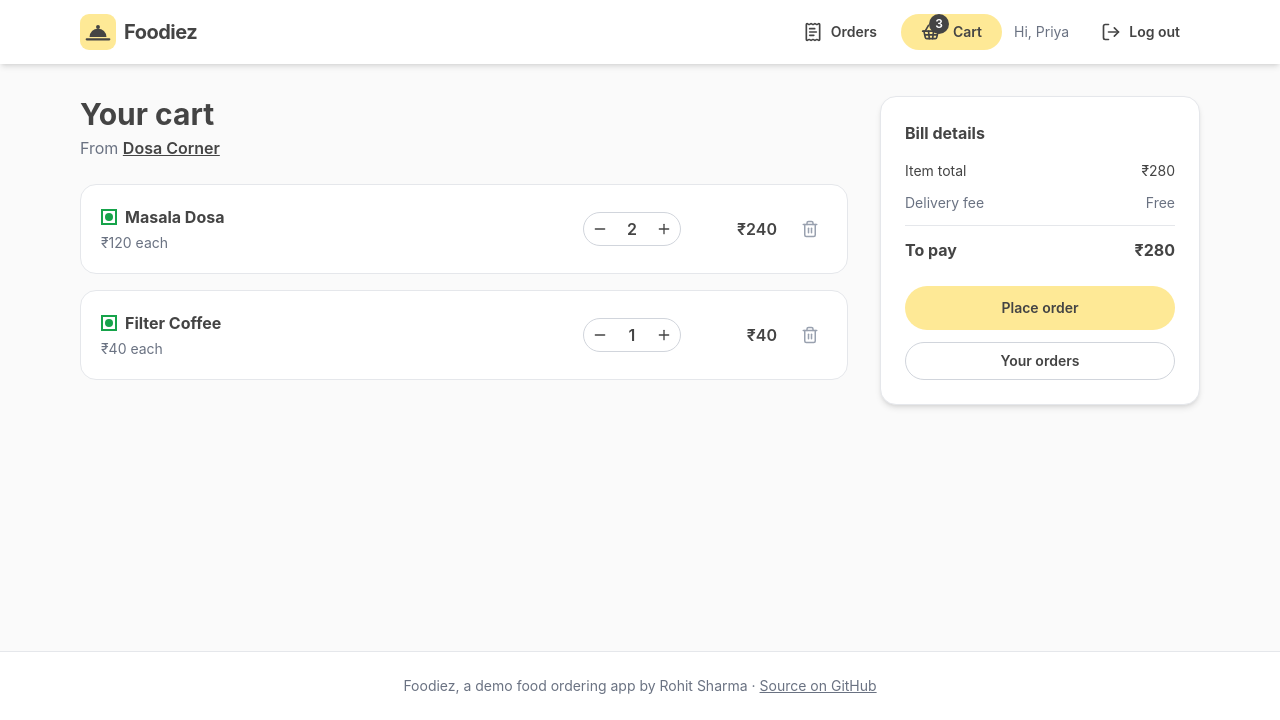
cart page › shows the bill and places the order
The width and height of the screenshot is (1280, 720).
expect the heading "Masala Dosa" is shown: met, box [125,205,224,229]
expect the text "₹280" in the row of "To pay" is shown: met, box [1135,240,1175,260]
Step 1. Click the button "Place order" → point(1040, 308), box [905,286,1175,330]
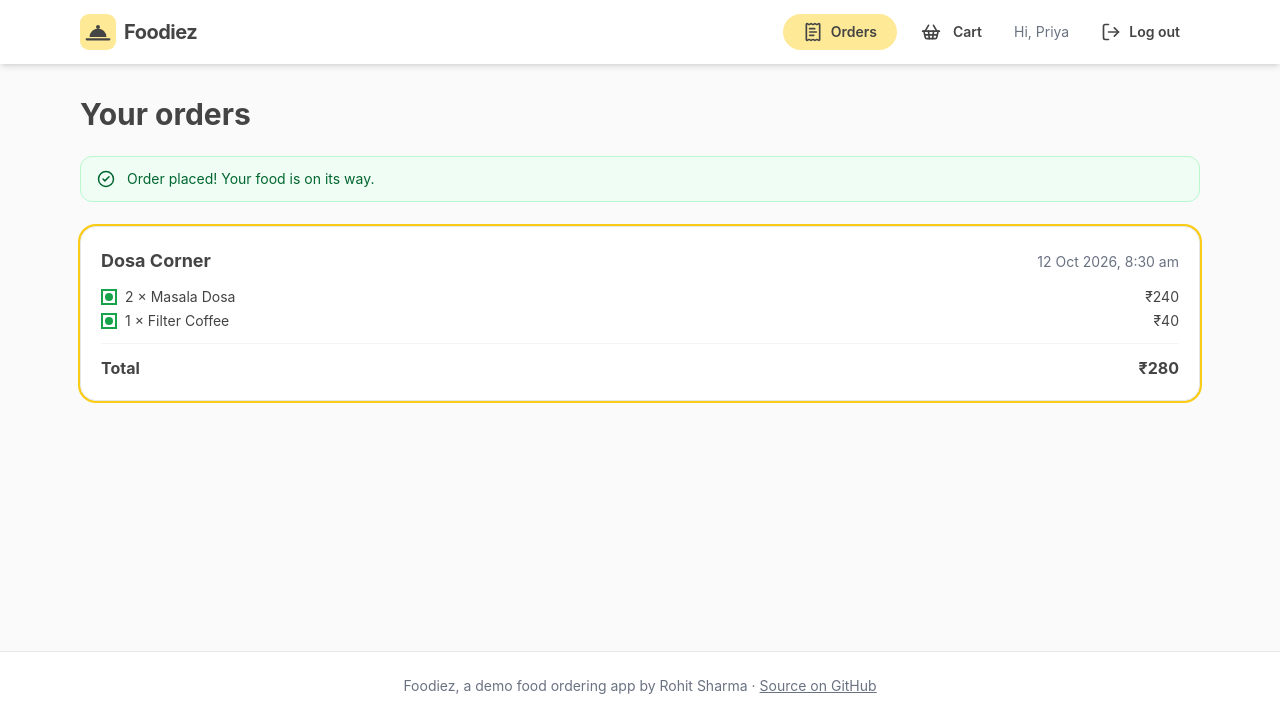
expect the text "Order placed! Your food is on its way." is shown: met, box [127,170,374,187]
expect the text "2 × Masala Dosa" is shown: met, box [101,287,235,307]
